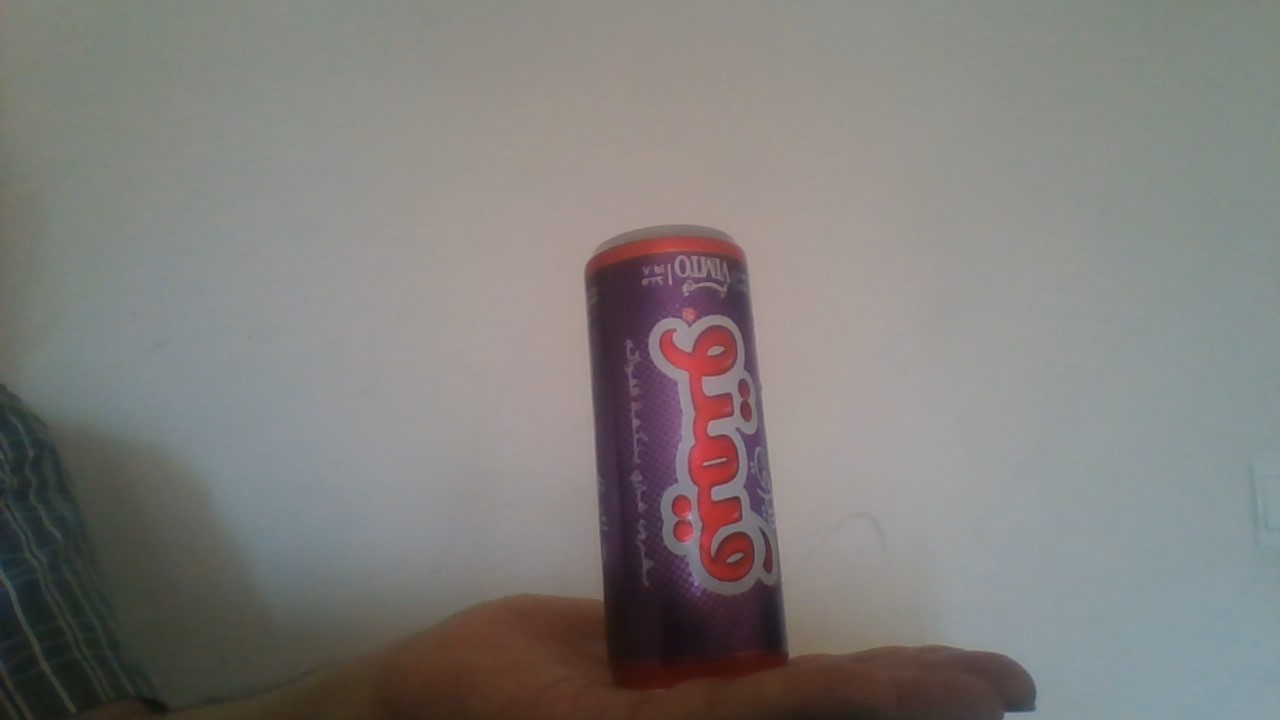can: (577, 220, 799, 692)
